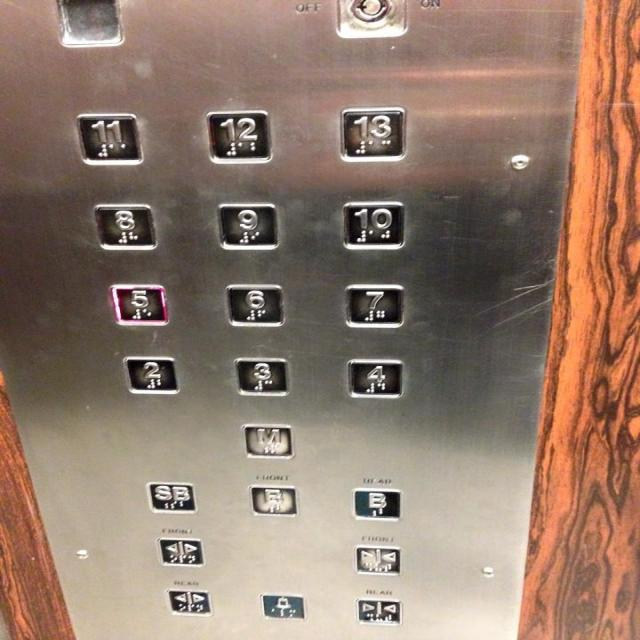10: (339, 199, 405, 250)
11: (74, 112, 144, 164)
12: (205, 110, 271, 163)
13: (338, 107, 407, 160)
2: (119, 356, 181, 395)
3: (233, 357, 287, 396)
4: (345, 357, 403, 398)
5: (108, 283, 170, 325)
6: (225, 282, 285, 326)
7: (342, 282, 406, 328)
8: (94, 202, 156, 248)
9: (214, 200, 281, 248)
B: (350, 488, 404, 521), (249, 484, 298, 516)
M: (240, 422, 295, 458)
SB: (145, 481, 197, 514)
alarm: (260, 592, 306, 619)
close: (352, 544, 404, 575), (356, 598, 402, 626)
empty: (55, 0, 125, 49)
keyhole: (331, 0, 408, 40)
open: (155, 536, 205, 566), (164, 587, 214, 617)
